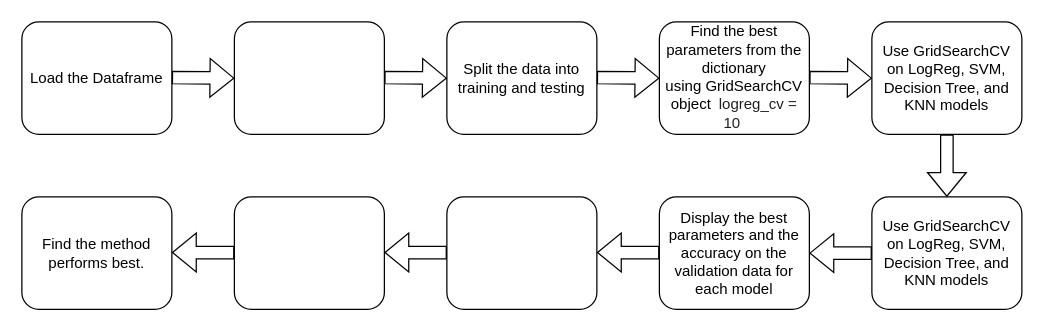
Image size: 1044x331. Some labels were removed from this diagram. Here are the shapes that lost their labels. From the top down, the centre of each, then its label:
At point 308,77: "Standarize the data".
At point 308,252: "Plot the confusion matrix for each model".
At point 521,252: "Calculate the accuracy on the test data using the method score for each model".
